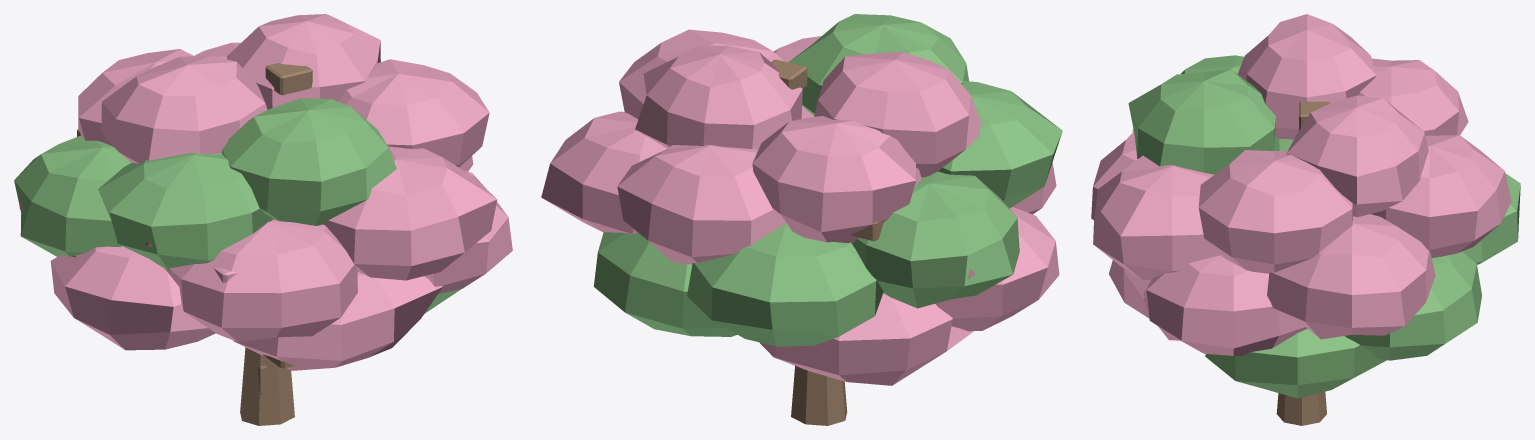
File: b08_flowering_dogwood.glb
3 views of the same model, side by side, from view 1: azimuth 30°, elevation 25°; view 2: azimuth 150°, elevation 25°; view 3: azimuth 270°, elevation 25° (orthographic). The views are drawn at different scales.
Parts seen in each view (by area): view 1: b08_flowering_dogwood; view 2: b08_flowering_dogwood; view 3: b08_flowering_dogwood.
Boxes of the visible parts, box(x1,y1,x2,y2) form: b08_flowering_dogwood: box(14, 14, 512, 425); b08_flowering_dogwood: box(541, 14, 1062, 425); b08_flowering_dogwood: box(1091, 14, 1520, 425).
Size of the model in its own units: 3.47 by 2.77 by 3.09.
